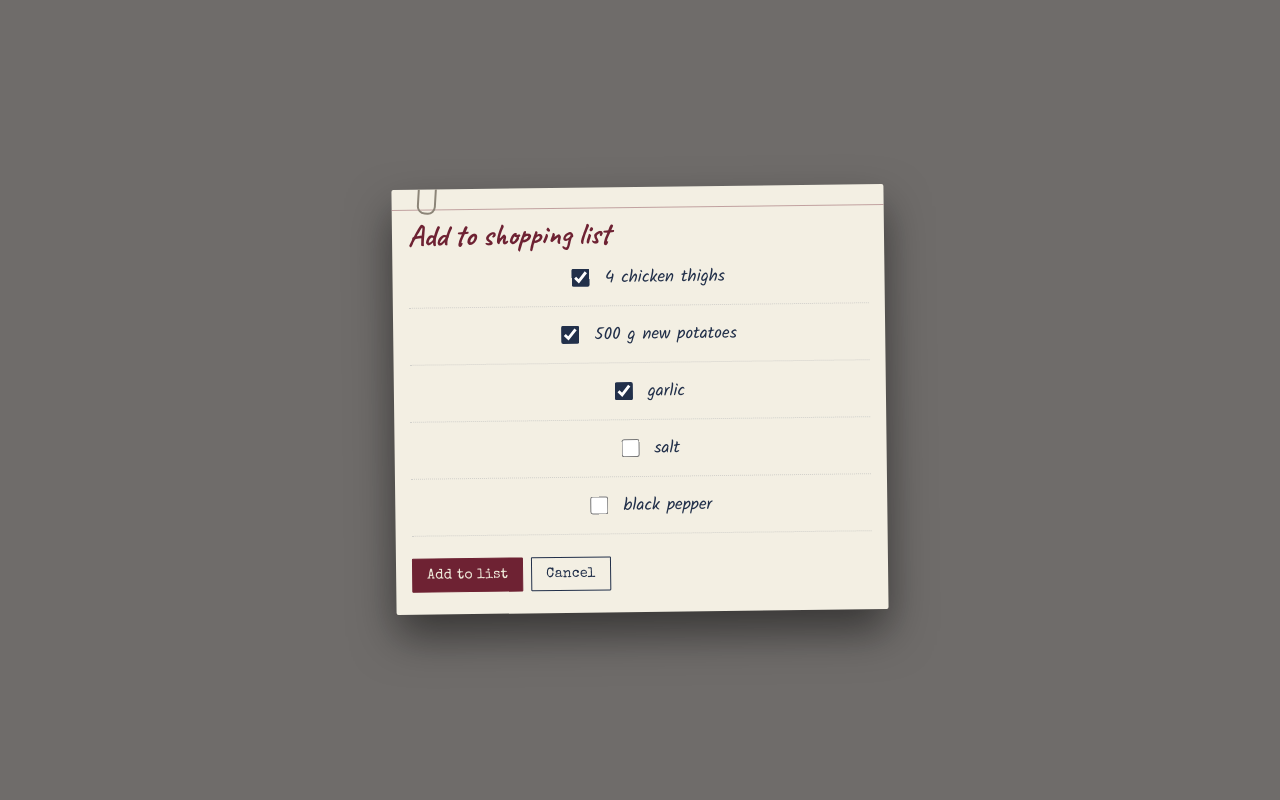
Scenario: adding to a list that already has items › says 'item' rather than '1 items'
Click the button with test id "add-confirm" at {"x": 468, "y": 576}, box [412,558,523,594]
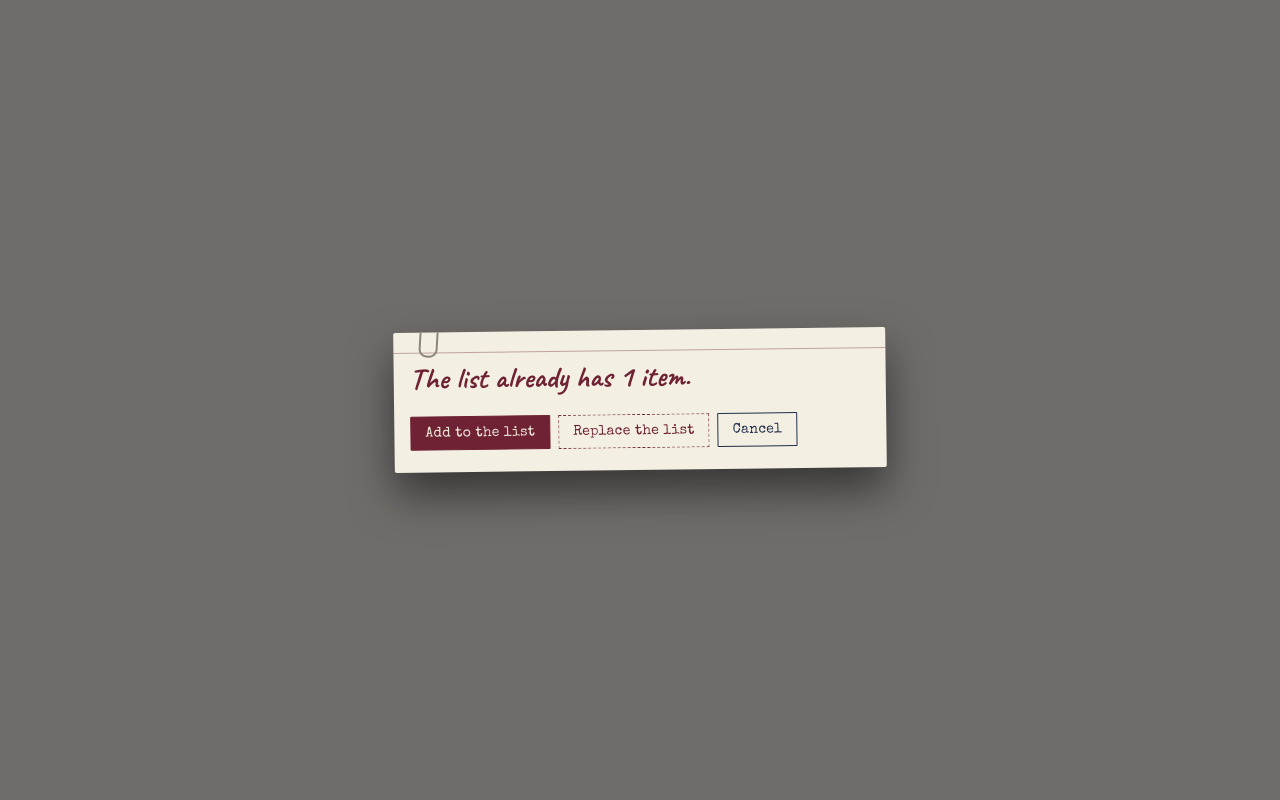
Expected: the heading with test id "add-prompt" reads "The list already has 1 item.", [410,356,690,398]
